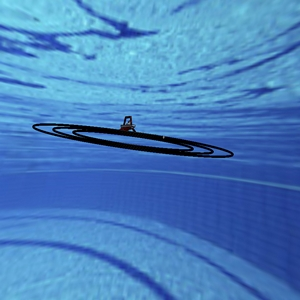circle: (22, 102, 245, 175)
submarine: (116, 111, 138, 139)
